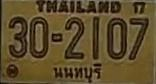0: (106, 17, 126, 59), (29, 16, 48, 58)
1: (92, 16, 99, 59)
2: (64, 17, 84, 58)
3: (8, 16, 27, 57)
7: (128, 17, 148, 59)
NBI: (51, 62, 104, 82)
